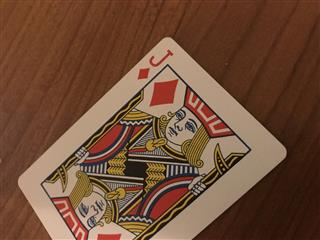JackOfDiamonds: (16, 35, 286, 240)
